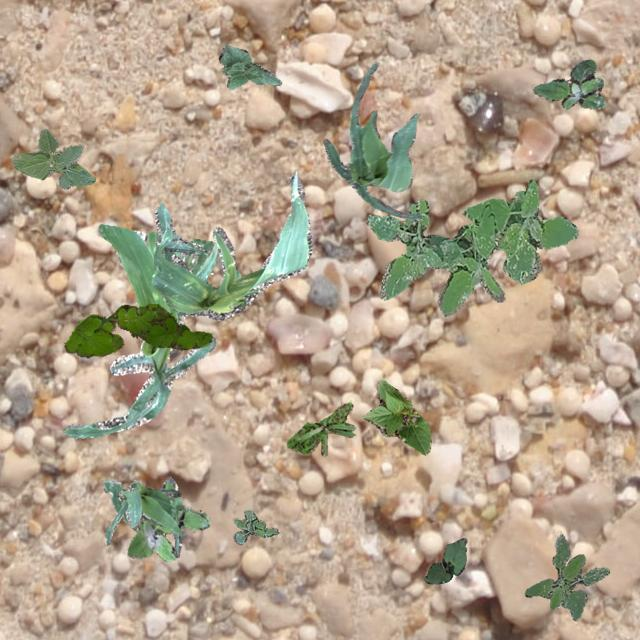crop: (63, 223, 218, 437), (150, 170, 312, 320), (322, 60, 422, 218), (104, 478, 182, 556), (362, 379, 431, 454), (10, 128, 94, 188), (218, 44, 280, 89), (422, 536, 466, 582)
weed: (364, 178, 578, 316), (102, 476, 208, 560), (64, 303, 212, 357), (524, 534, 608, 620), (286, 402, 354, 456), (532, 58, 604, 108), (232, 508, 278, 544)
